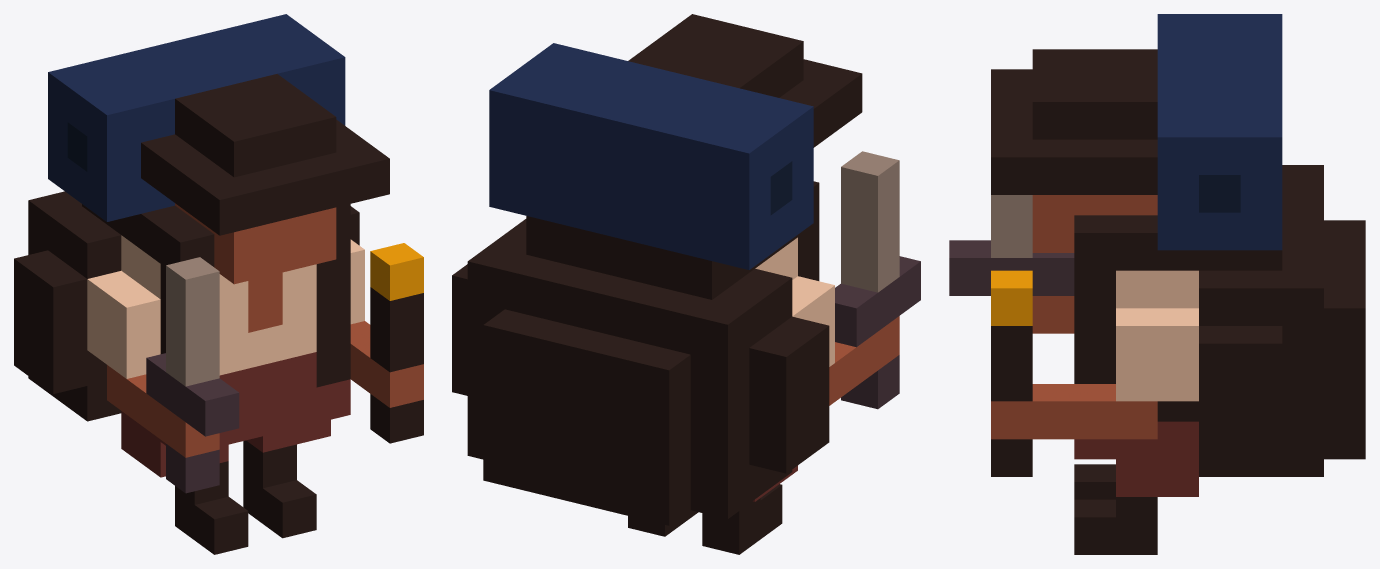
Rendered from adventurer_idle_1.obj.
3 views of the same model, side by side, from view 1: azimuth 30°, elevation 25°; view 2: azimuth 150°, elevation 25°; view 3: azimuth 270°, elevation 25° (orthographic). The views are drawn at different scales.
Size of the model in its own units: 0.9 by 1.2 by 1.
1 material, 1 textured.
